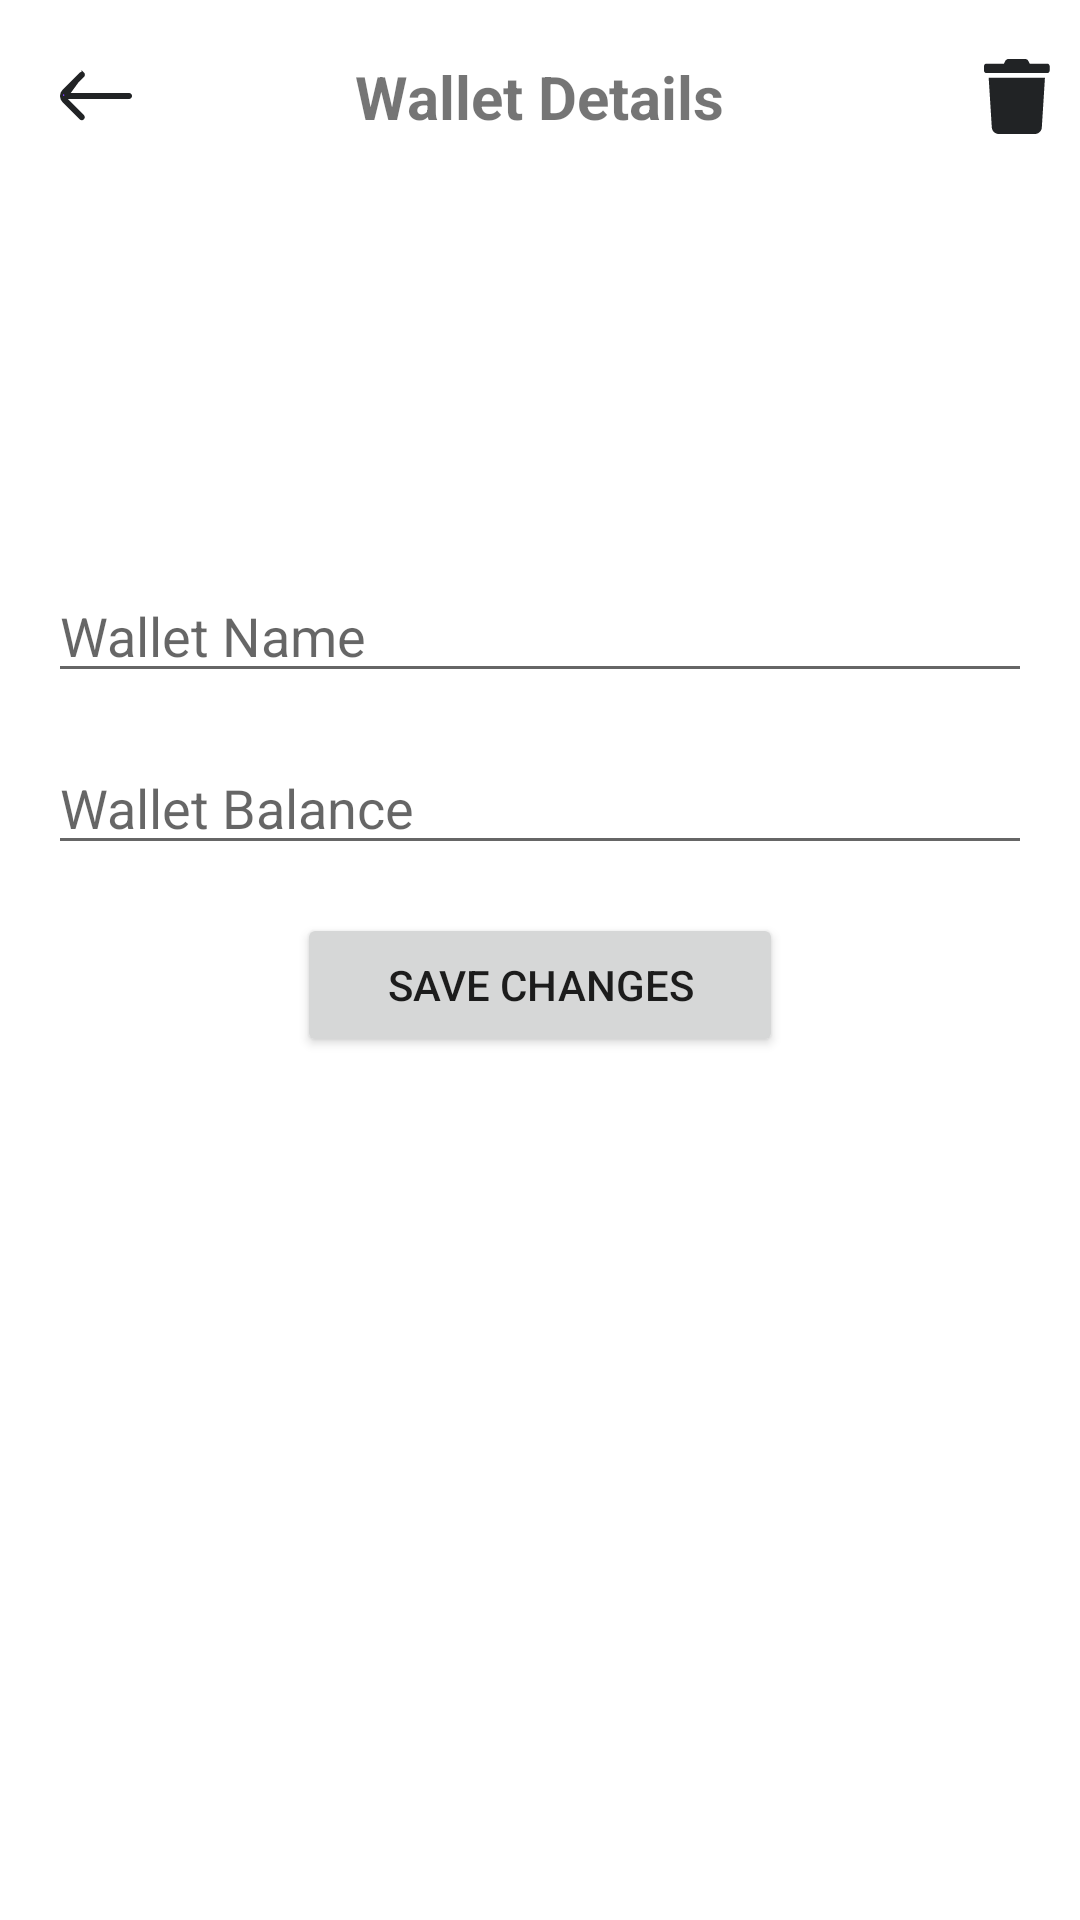

Named icons in this screenshot (1080x1920) and their bounding boxes, (x1, y1, x2, y2):
back: (60, 70, 132, 121)
trash: (984, 59, 1050, 134)
